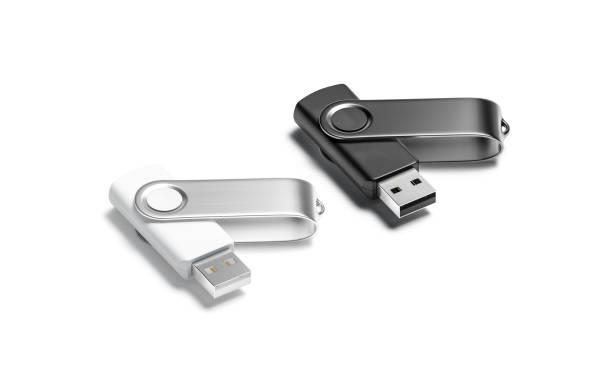USB Flash Drive: (293, 84, 511, 219), (108, 166, 317, 299)
